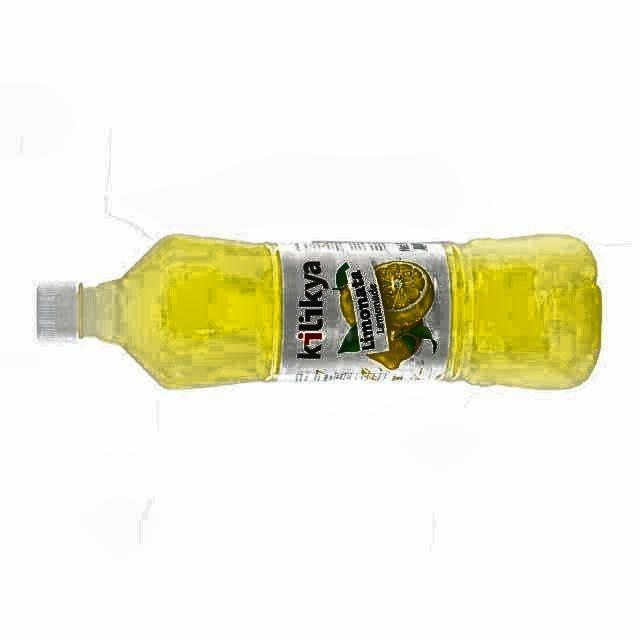plastic: (38, 235, 601, 388)
